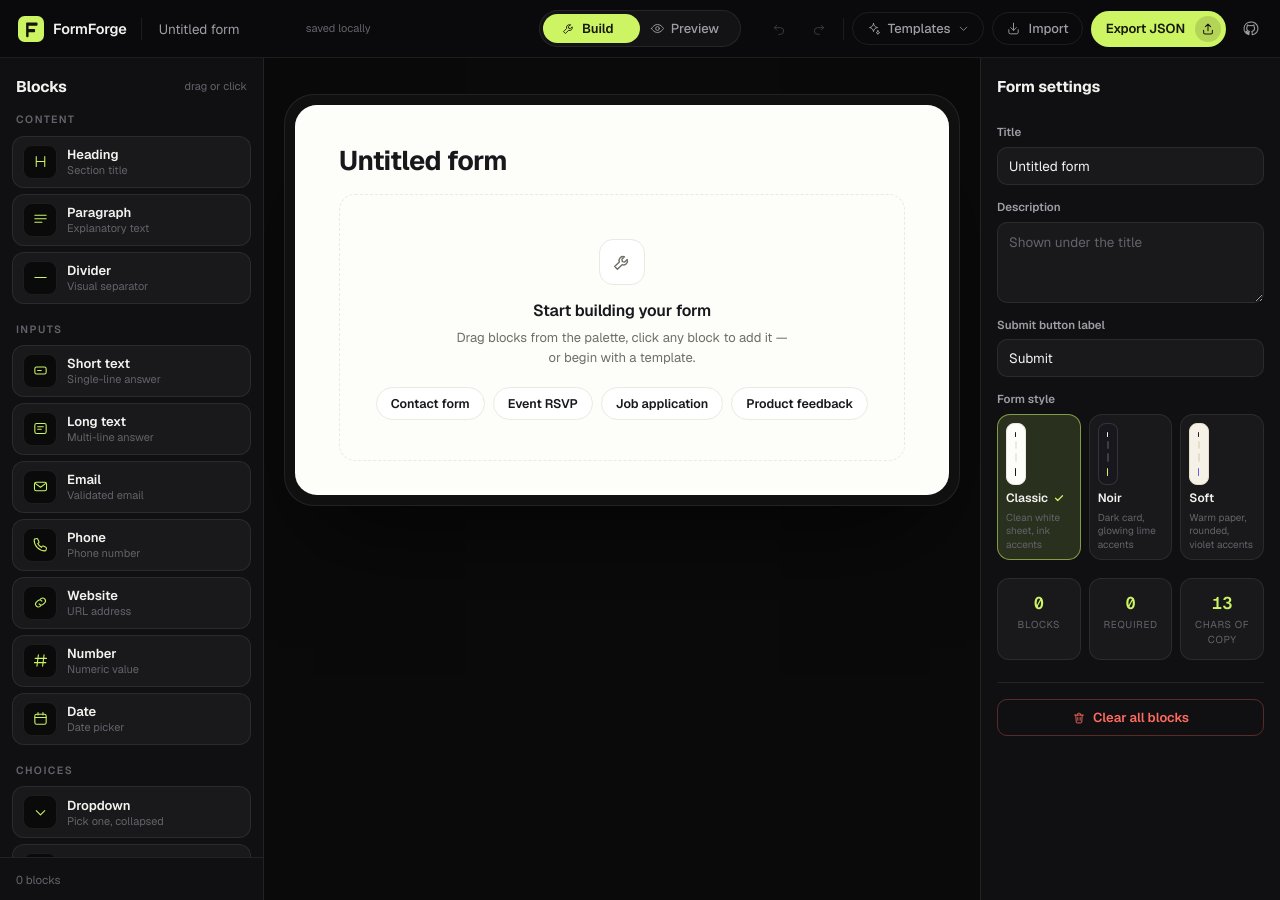
Test: template selection from Preview › renders Summer rooftop party after selecting the template in Preview
The width and height of the screenshot is (1280, 900).
Click the tab "Preview" at (684, 28), box [632,14,737,43]
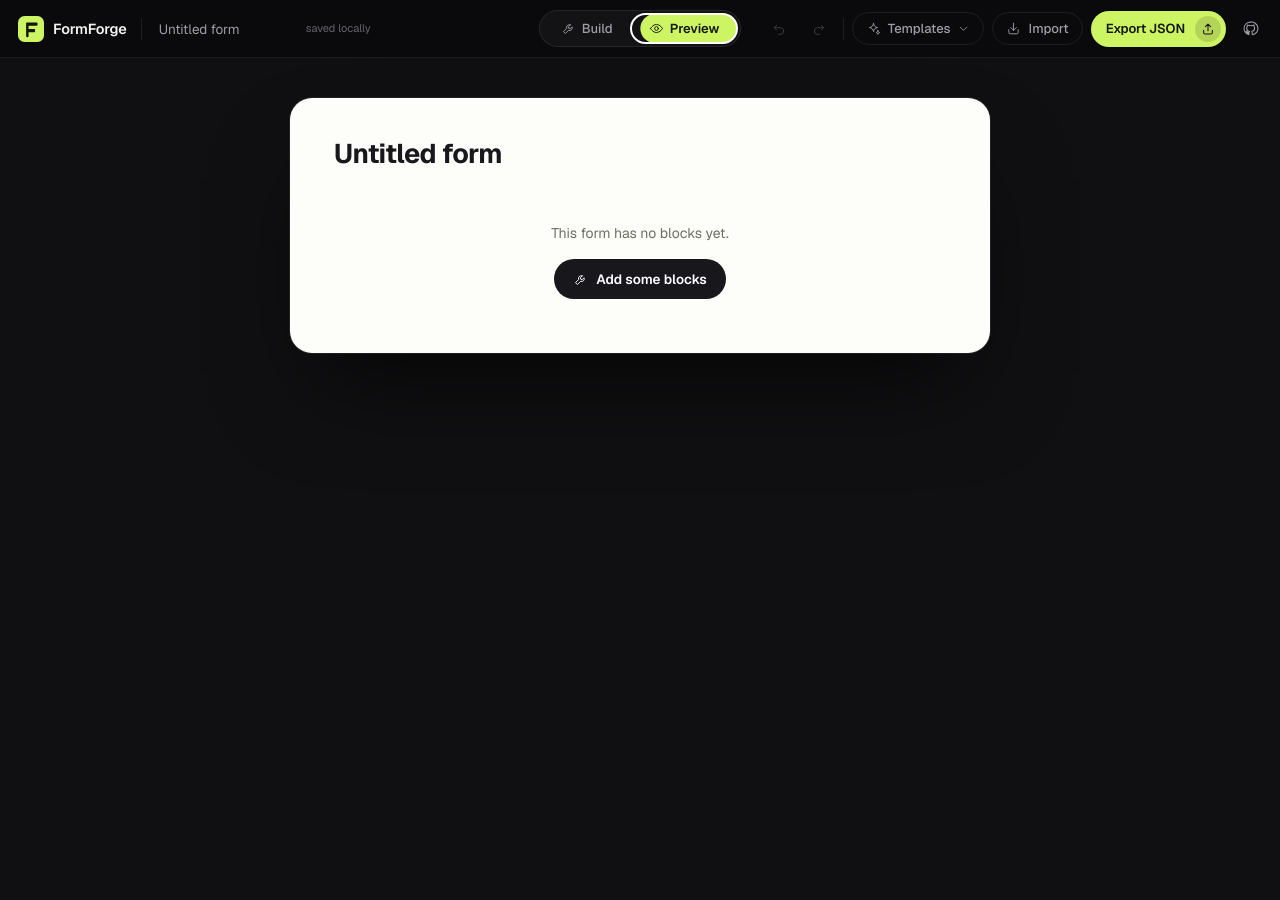
Click the button "Templates" at (918, 28), box [852,12,984,45]
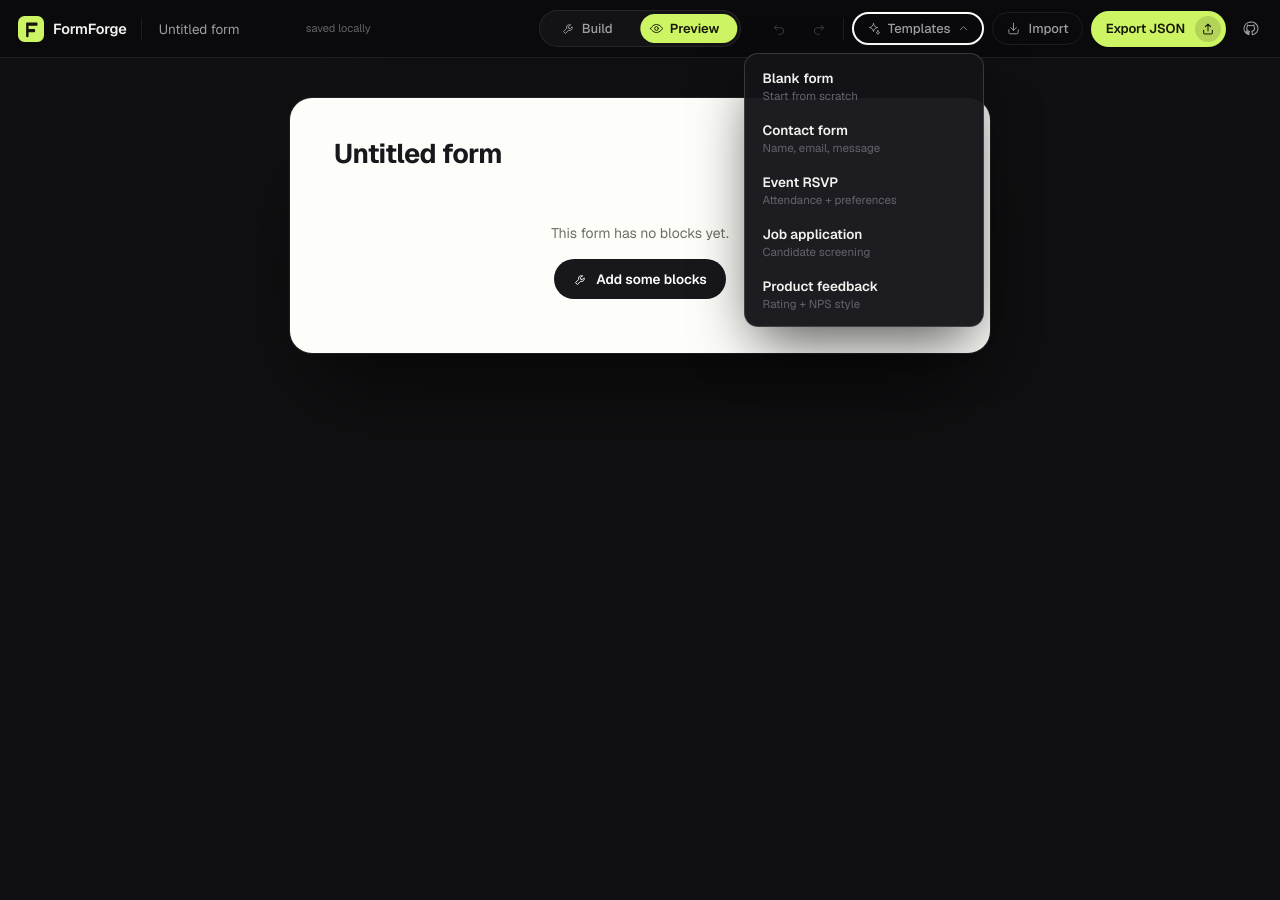
Click the menu item "Event RSVP Attendance + preferences" at (864, 190), box [752,164,978,216]
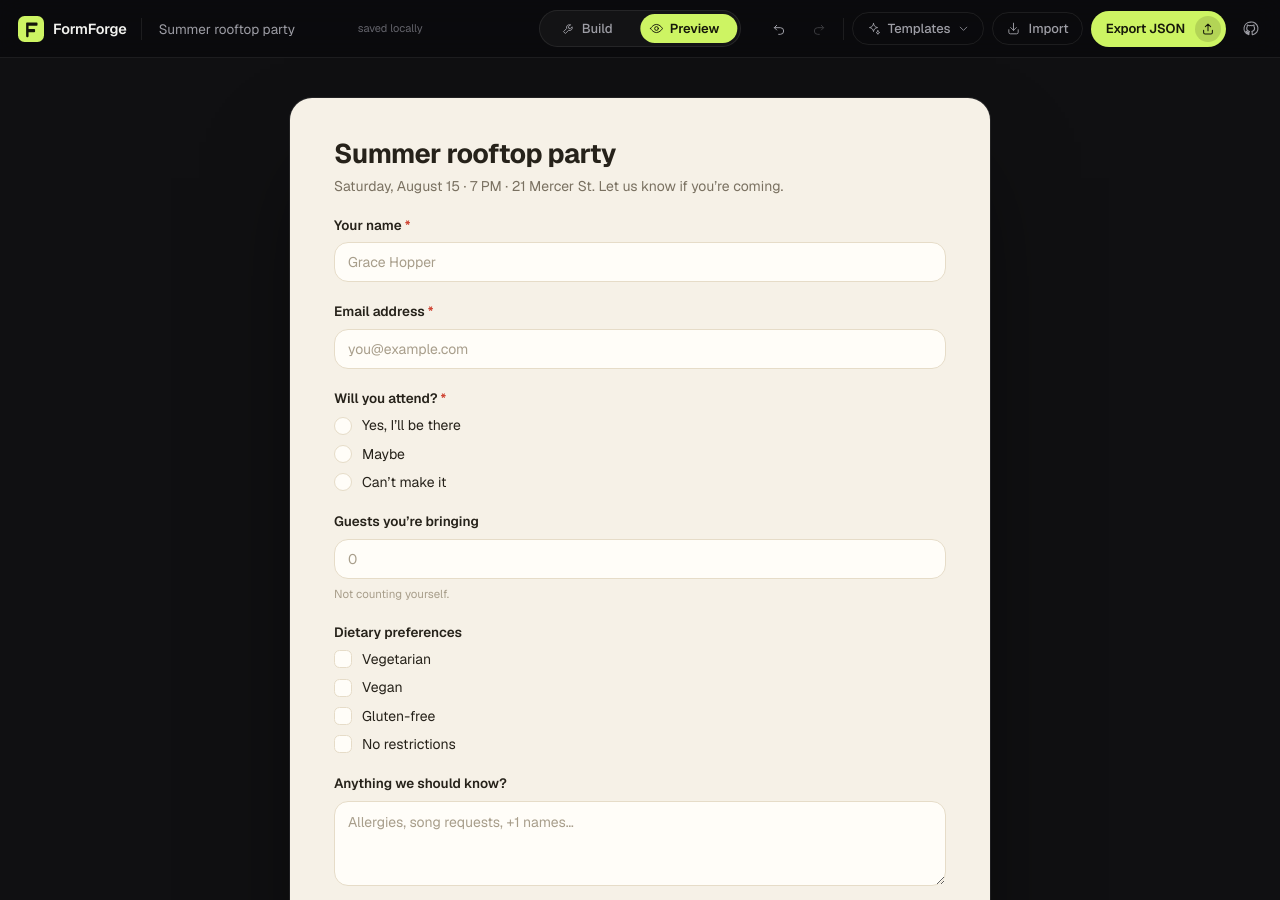
Check: the heading "Summer rooftop party" is shown, box [334,136,616,171]
Check: the element named "Dietary preferences" is shown, box [334,650,456,753]
